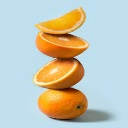orange: (31, 55, 87, 88), (36, 88, 90, 120), (31, 29, 89, 55)
